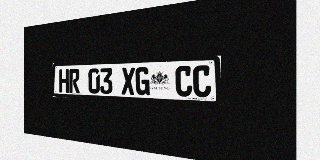0: (88, 68, 100, 94)
3: (100, 68, 112, 94)
C: (193, 65, 211, 97), (175, 66, 192, 97)
G: (135, 67, 150, 95)
H: (59, 69, 69, 93)
R: (69, 69, 80, 93)
X: (121, 67, 135, 95)
